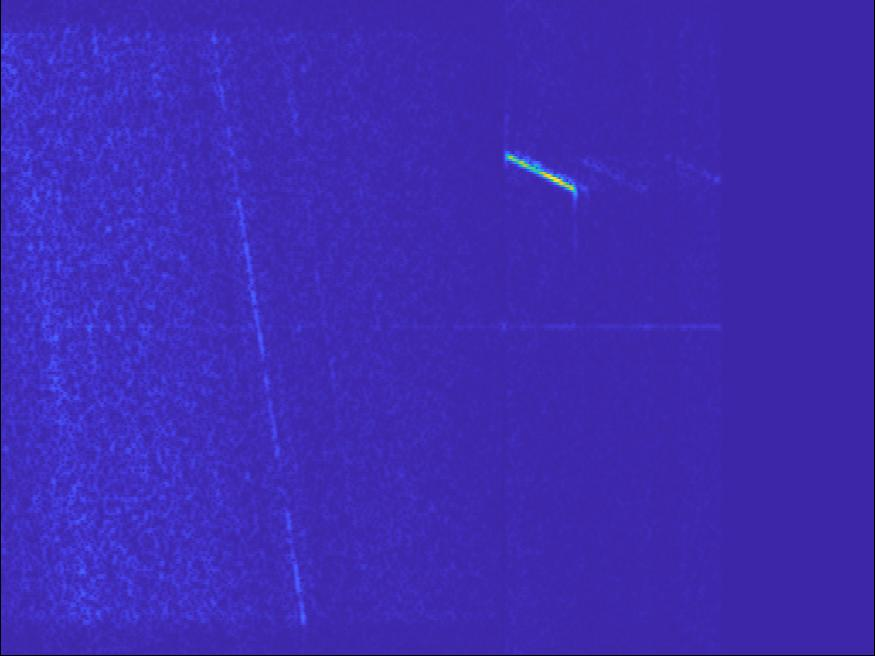Interference: (670, 284, 860, 368), (751, 184, 847, 227)
